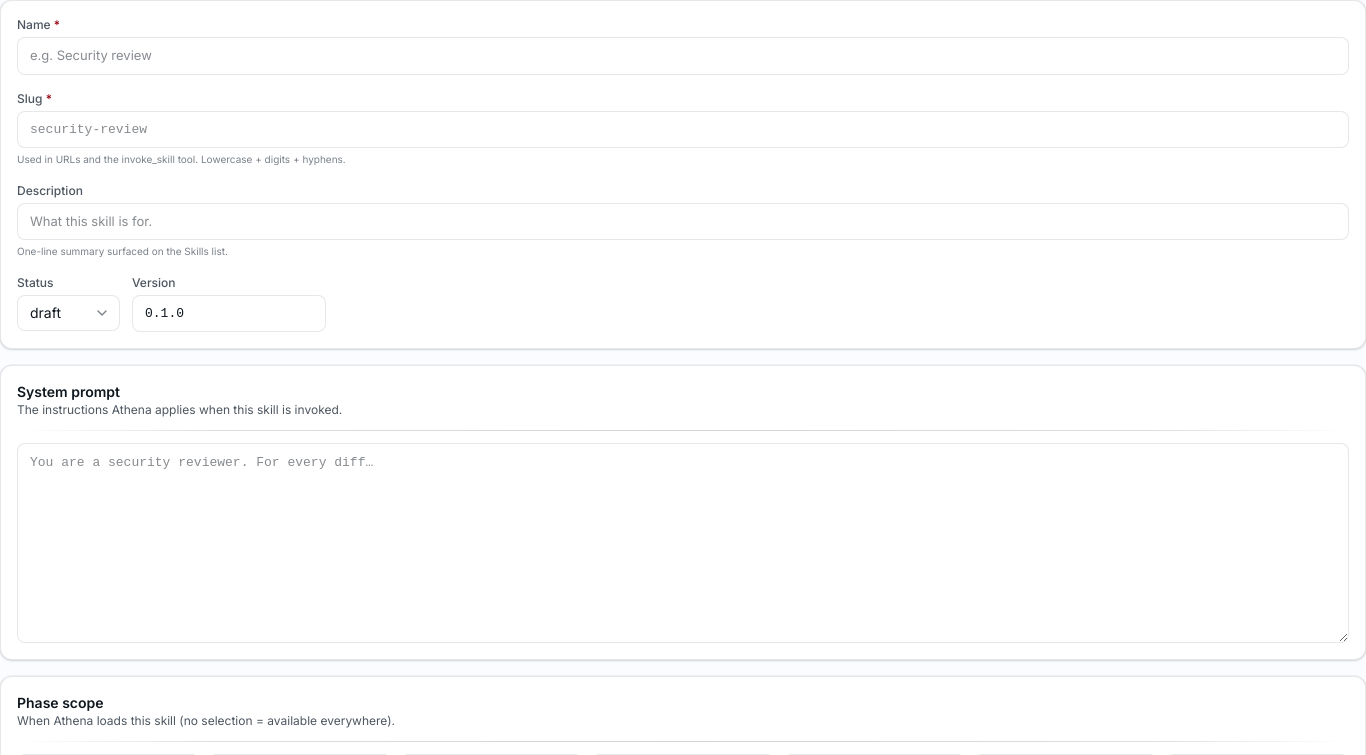
Scenario: <SkillForm/> create mode › auto-derives slug from name
Step 1. Type "API Design Reviewer" into the field with test id "skill-form-name" → (683, 56), box [17,37,1349,74]
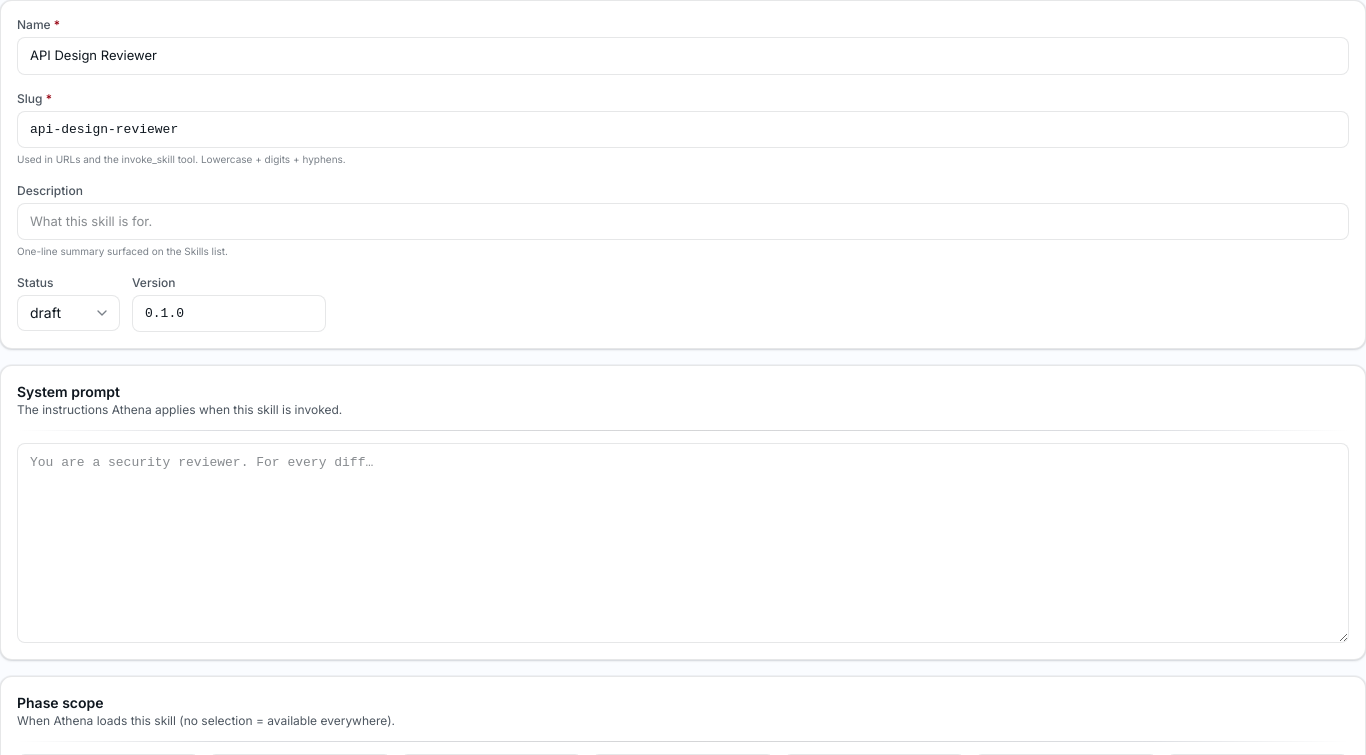
Expected: the field with test id "skill-form-slug" holds "api-design-reviewer", [17,110,1349,148]
